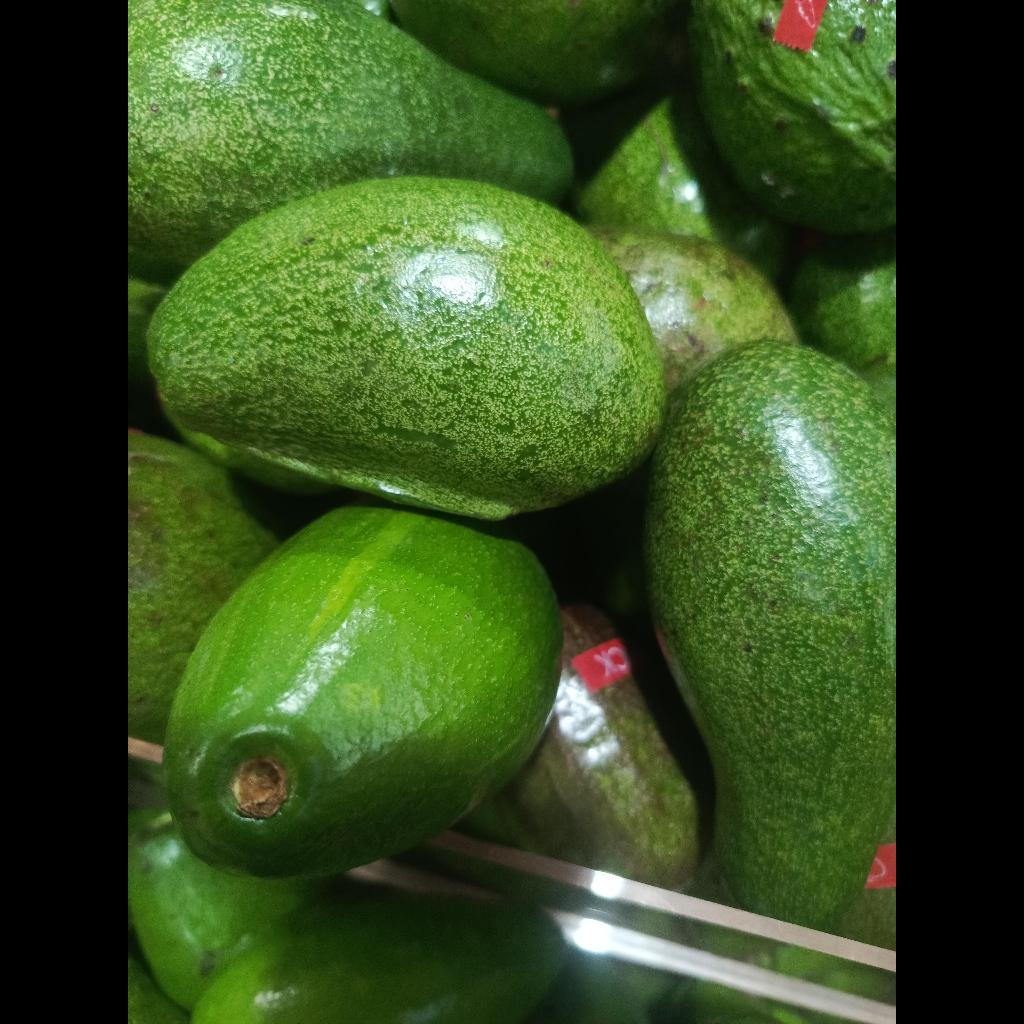antracnosis_fruto: (460, 604, 698, 888)
fruto_sano: (149, 177, 664, 519), (643, 341, 896, 930), (128, 0, 572, 265)
pudricion_peduncular: (164, 506, 561, 878)
rona: (690, 0, 896, 234), (590, 229, 797, 393)
